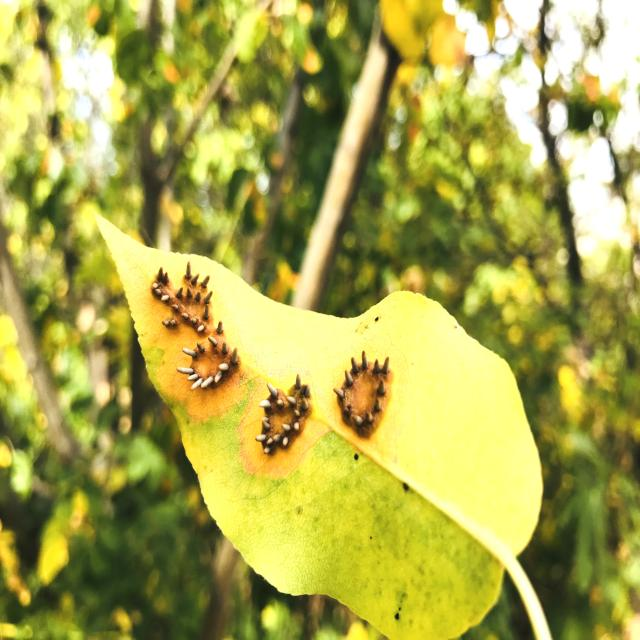Gymnosporangium_Rusts: (116, 214, 498, 479)
